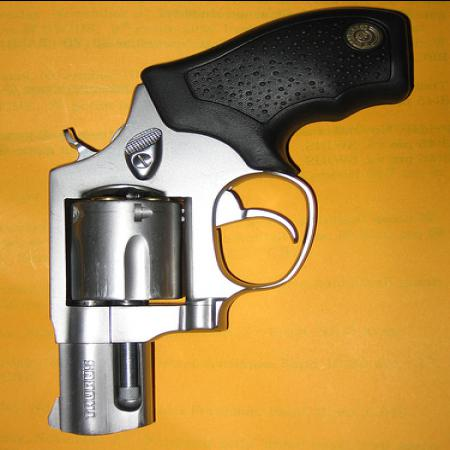Pistol: (45, 6, 412, 436)
